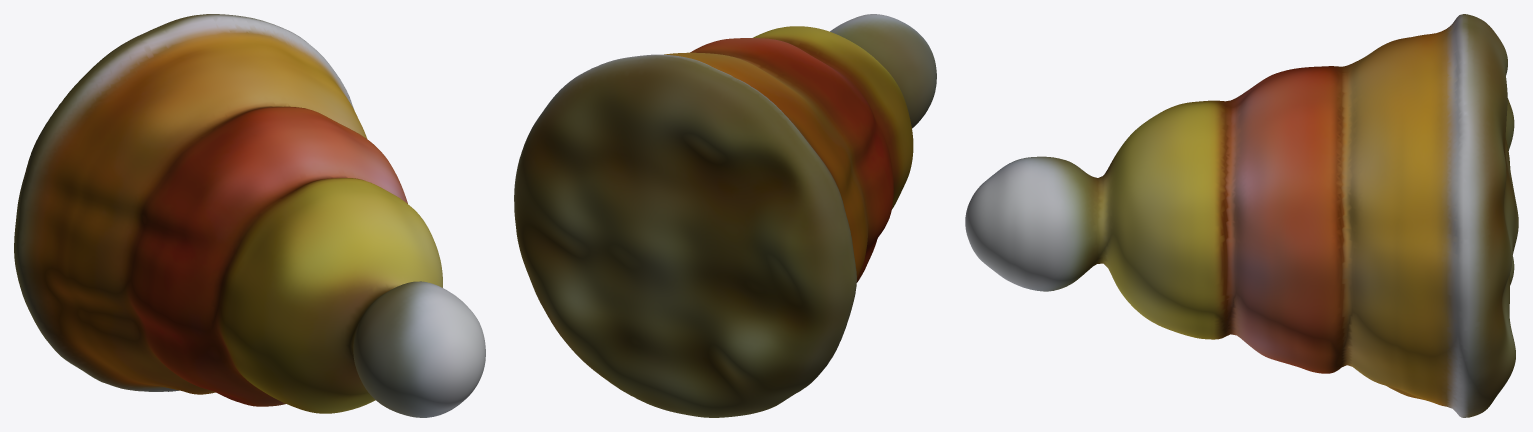
File: chicken.glb
3 views of the same model, side by side, from view 1: azimuth 30°, elevation 25°; view 2: azimuth 150°, elevation 25°; view 3: azimuth 270°, elevation 25° (orthographic). The views are drawn at different scales.
Bounding box in the file's own units: 0.7225 × 0.7326 × 0.9996.
